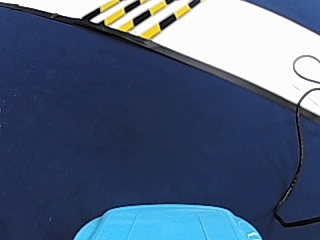bump: (85, 3, 165, 32)
